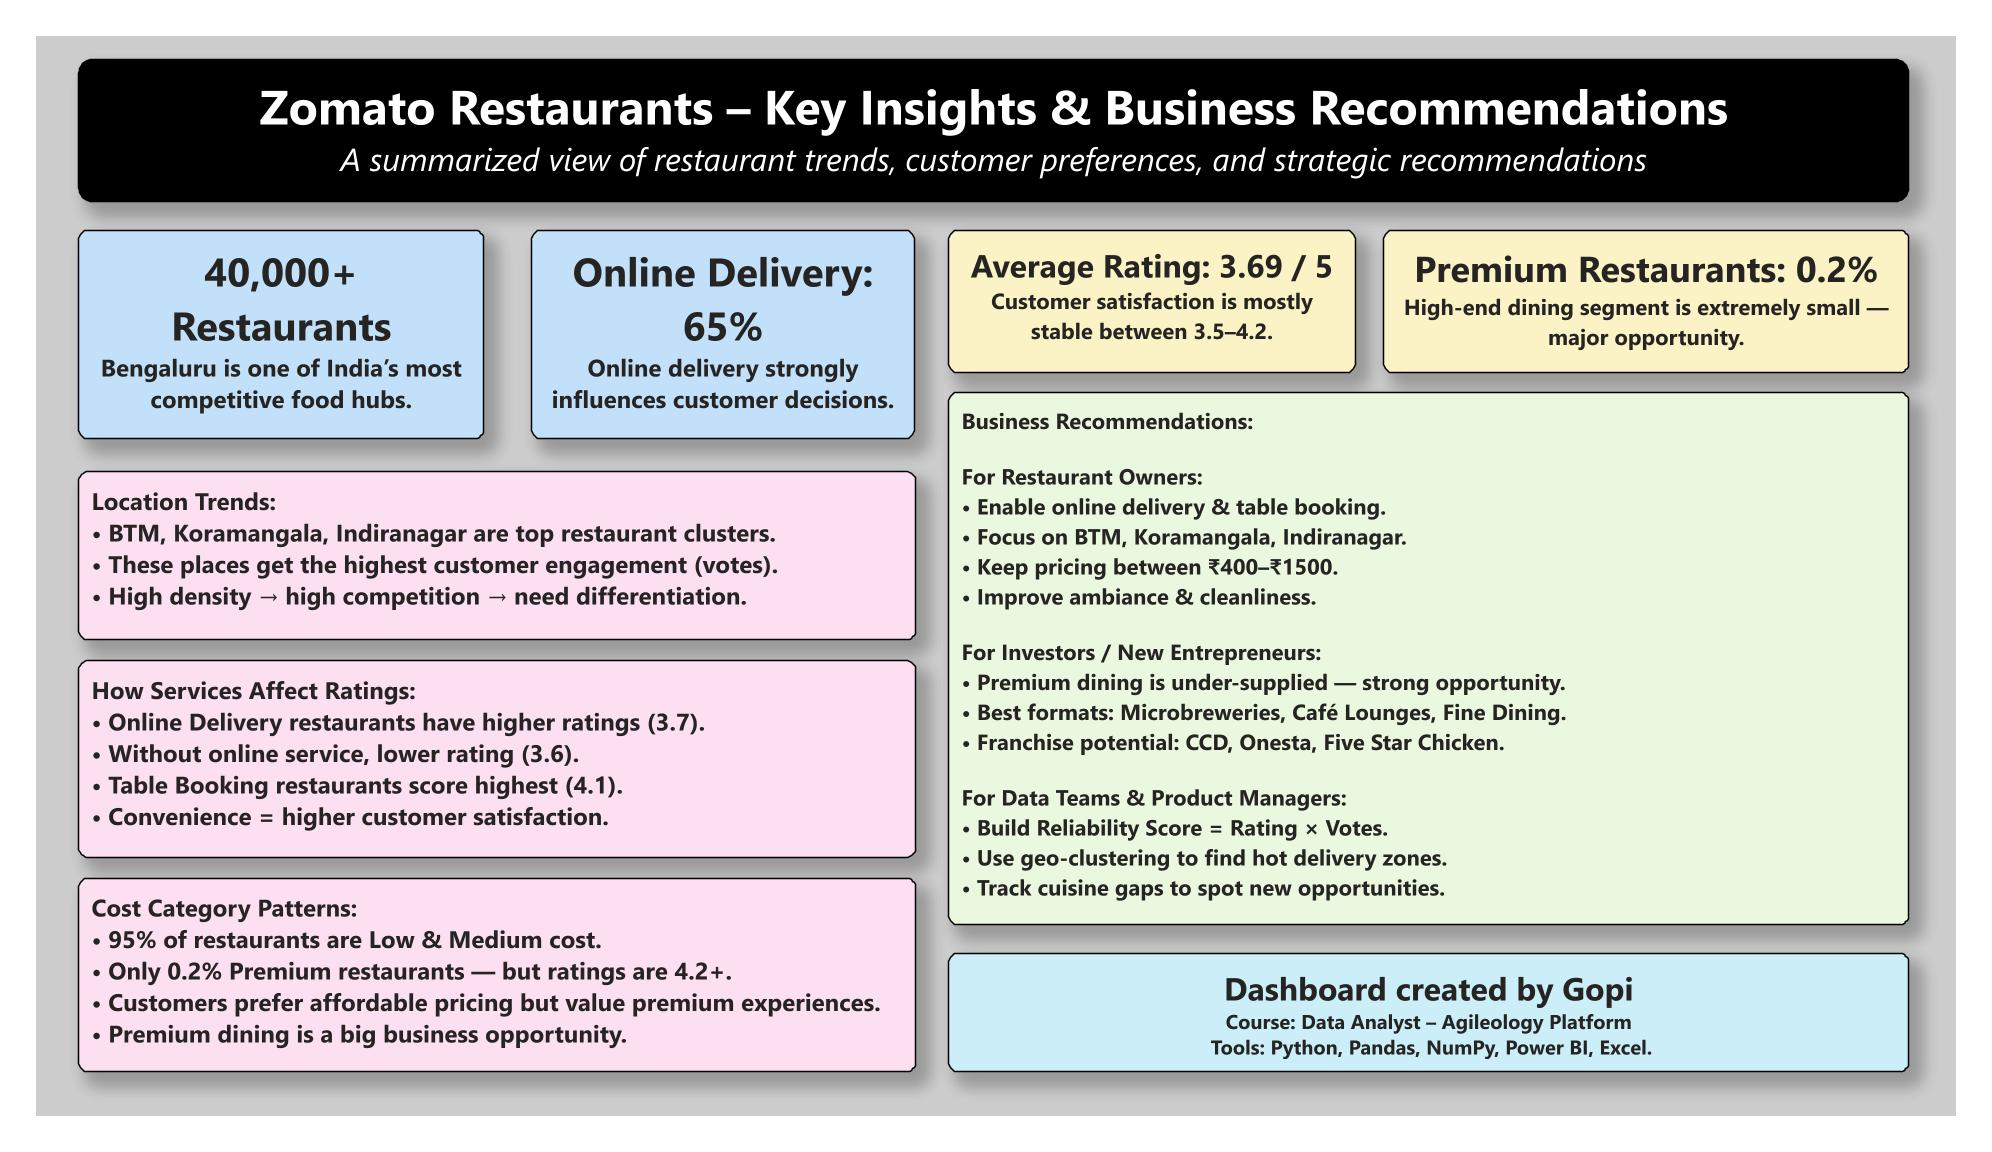

This screenshot's page, from the dashboard's own definition file:
{"tool":"powerbi","page":{"name":"Conclusion & Insights Summary","canvas":[1280,720],"ordinal":5},"visuals":[{"type":"textbox","box":[28.2,14.6,1220.7,96.3],"z":0},{"type":"textbox","box":[28.2,129.1,270.4,140.1],"z":1000},{"type":"textbox","box":[607.9,129.4,272.3,95.3],"z":2000},{"type":"textbox","box":[330,129,256,140],"z":3000},{"type":"textbox","box":[897.8,129.4,351.1,95.3],"z":4000},{"type":"textbox","box":[28.2,289.8,558.3,112.8],"z":5000},{"type":"textbox","box":[28.2,416.3,558.3,131.3],"z":6000},{"type":"textbox","box":[28.2,561.2,558.3,129.4],"z":7000},{"type":"textbox","box":[608,237,641,356],"z":8000},{"type":"textbox","box":[608,611,641,80],"z":9000}]}

Visuals, with their boxes in screenshot pixels (x1, y1, x2, y2), scaled from the page's 1280x720 canvas onto the 1992x1152 screenshot:
textbox: select_region(44, 23, 1944, 177)
textbox: select_region(44, 207, 465, 431)
textbox: select_region(946, 207, 1370, 360)
textbox: select_region(514, 206, 912, 430)
textbox: select_region(1397, 207, 1944, 360)
textbox: select_region(44, 464, 913, 644)
textbox: select_region(44, 666, 913, 876)
textbox: select_region(44, 898, 913, 1105)
textbox: select_region(946, 379, 1944, 949)
textbox: select_region(946, 978, 1944, 1106)
